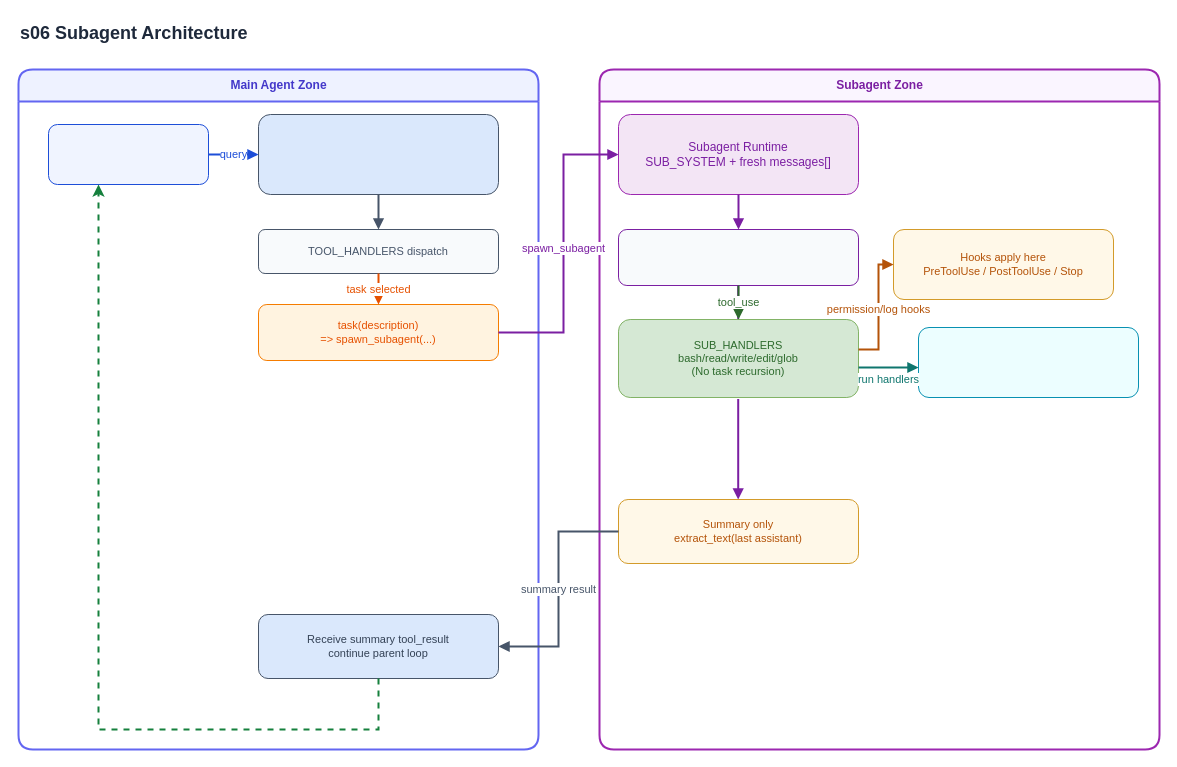
Image size: 1177x767. Some labels were removed from this diagram. The shapes that lost their labels are listed below. From the top down, each one's centre as x and y in pixels, then its label:
pixel 128 154: User Prompt
pixel 378 154: Parent Harness SYSTEM + messages[]
pixel 738 257: Subagent while loop max 30 turns
pixel 1028 362: Workspace side effects files / shell outputs kept
